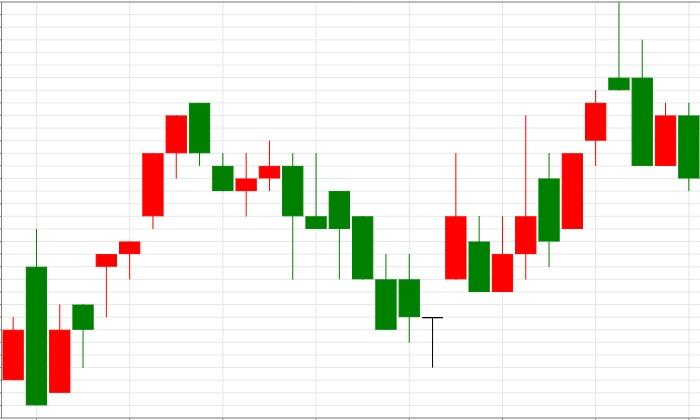shooting_star_fall: (469, 2, 631, 293)
